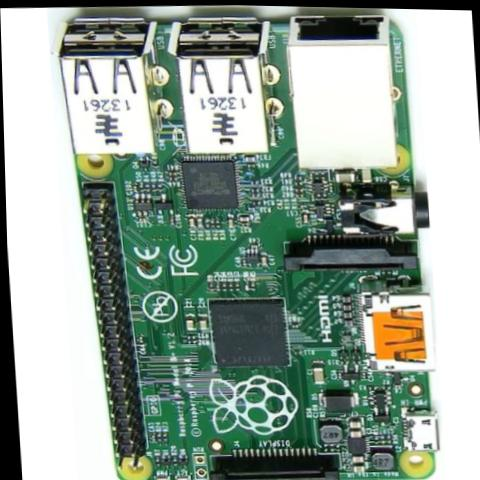Raspberry-Pi-1-Model-B-: (47, 1, 444, 480)
